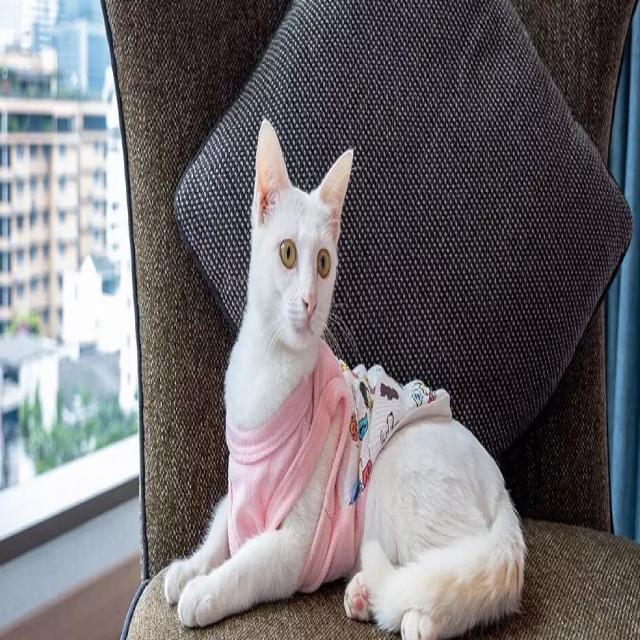Khao Manee: (160, 116, 527, 640)
